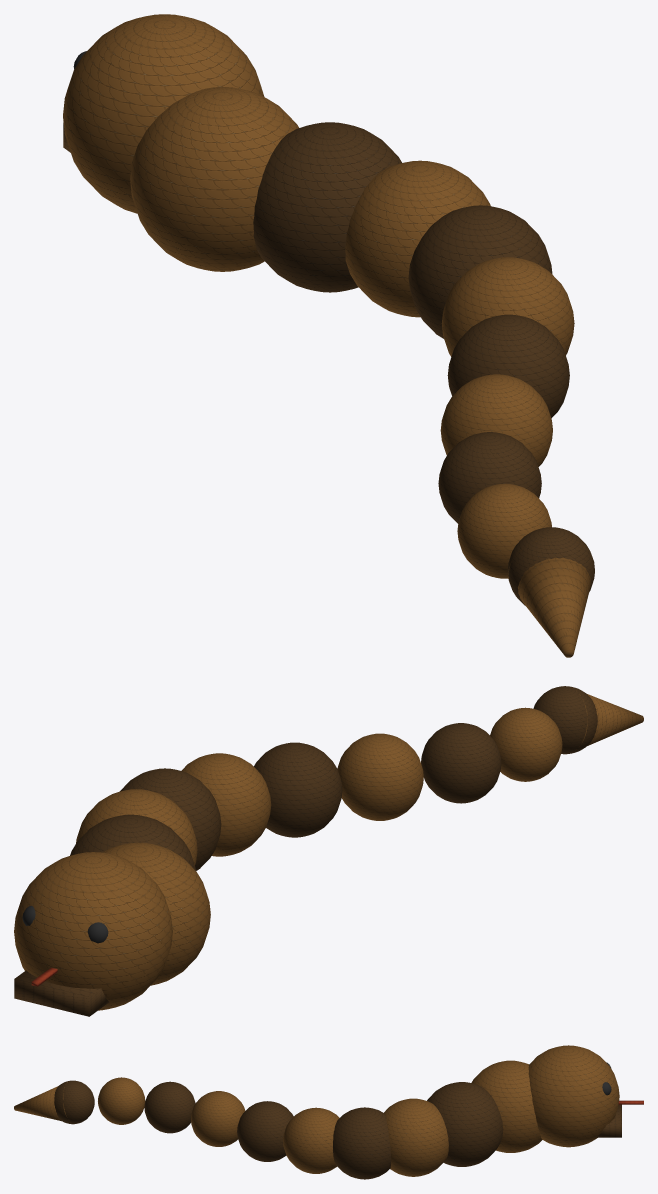
File: naga.glb
3 renders of one model, top to bottom at view 1: azimuth 30°, elevation 25°; view 2: azimuth 150°, elevation 25°; view 3: azimuth 270°, elevation 25°, orthographic. The views are drawn at different scales.
Parts seen in each view (by area): view 1: Segment0, Head, Segment1, Segment2, Segment3, Segment4, Segment5, Segment6, Segment8, Segment7, TailTip, Segment9; view 2: Head, Segment5, Segment6, Segment0, Segment4, Segment7, Segment8, Segment3, Segment2, Segment1, Segment9, Jaw (+1 smaller); view 3: Head, Segment1, Segment2, Segment0, Segment3, Segment4, Segment5, Segment6, Segment7, Segment8, Segment9, TailTip (+1 smaller).
Part boxes in pixels (x1,y1,x2,y2): Segment0: (130,86,298,271); Head: (63,14,264,213); Segment1: (253,122,401,292); Segment2: (345,160,490,317); Segment3: (408,205,552,338); Segment4: (441,257,574,356); Segment5: (447,314,569,418); Segment6: (440,374,552,466); Segment8: (457,483,551,578); Segment7: (438,432,541,523); TailTip: (508,537,594,657); Segment9: (507,527,594,605); Head: (14,852,172,1010); Segment5: (254,742,342,837); Segment6: (337,733,423,820); Segment0: (103,842,210,985); Segment4: (181,753,271,856); Segment7: (421,723,501,803); Segment8: (490,707,562,781); Segment3: (120,768,221,870); Segment2: (76,789,197,865); Segment1: (70,814,195,870); Segment9: (533,686,597,754); Jaw: (14,970,109,1016); Head: (528,1045,619,1147); Segment1: (427,1082,503,1166); Segment2: (384,1098,448,1176); Segment0: (471,1060,542,1152); Segment3: (333,1107,391,1179); Segment4: (283,1107,339,1173); Segment5: (237,1101,293,1161); Segment6: (191,1091,245,1146); Segment7: (144,1081,195,1133); Segment8: (98,1077,145,1124); Segment9: (54,1080,94,1124); TailTip: (14,1082,70,1122).
Bounding box in the file's own units: 0.6475 × 0.3728 × 2.16.
4 materials, 3 textured.
